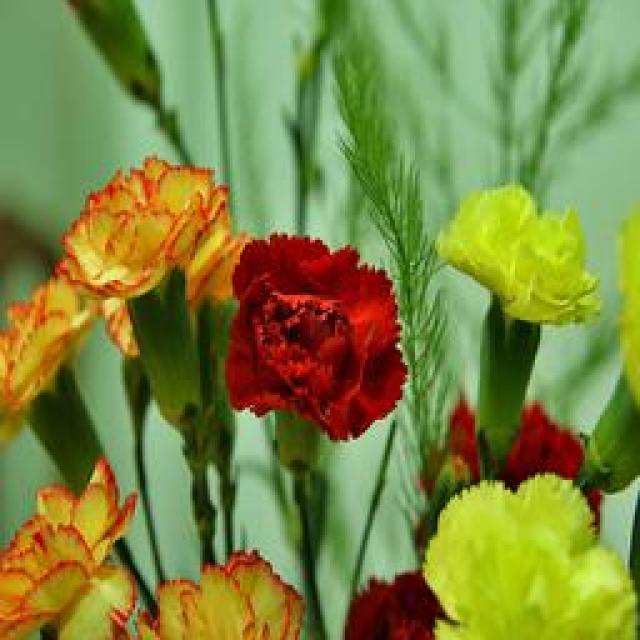carnation: (214, 215, 428, 472)
